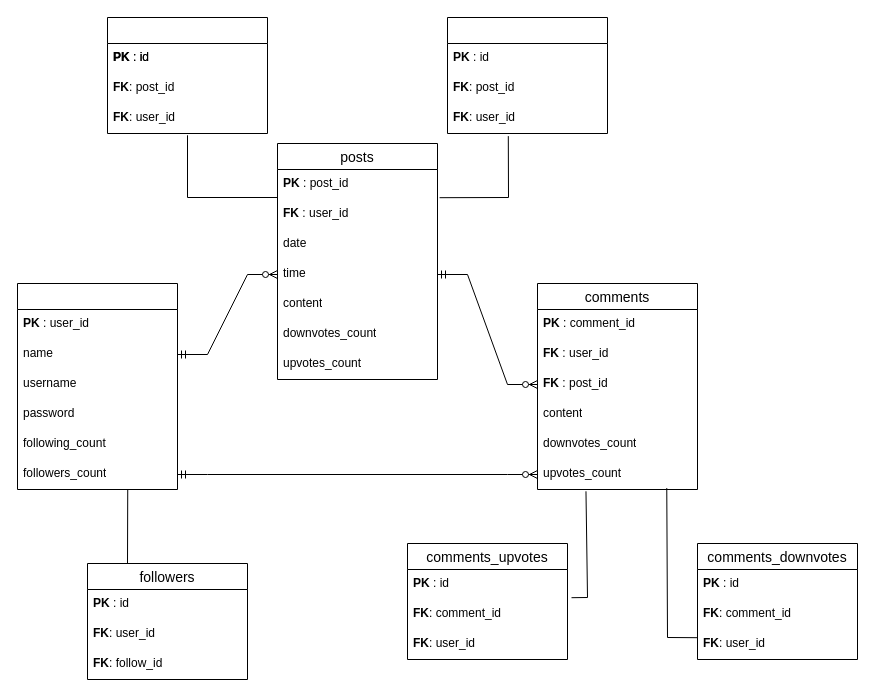
The diagram is 875 pixels wide and 700 high, and some of its shapes have lost their labels. Each missing label, with the box of its shape:
posts_downvotes: (106, 16, 268, 134)
posts_upvotes: (446, 16, 608, 134)
users: (16, 282, 178, 490)
